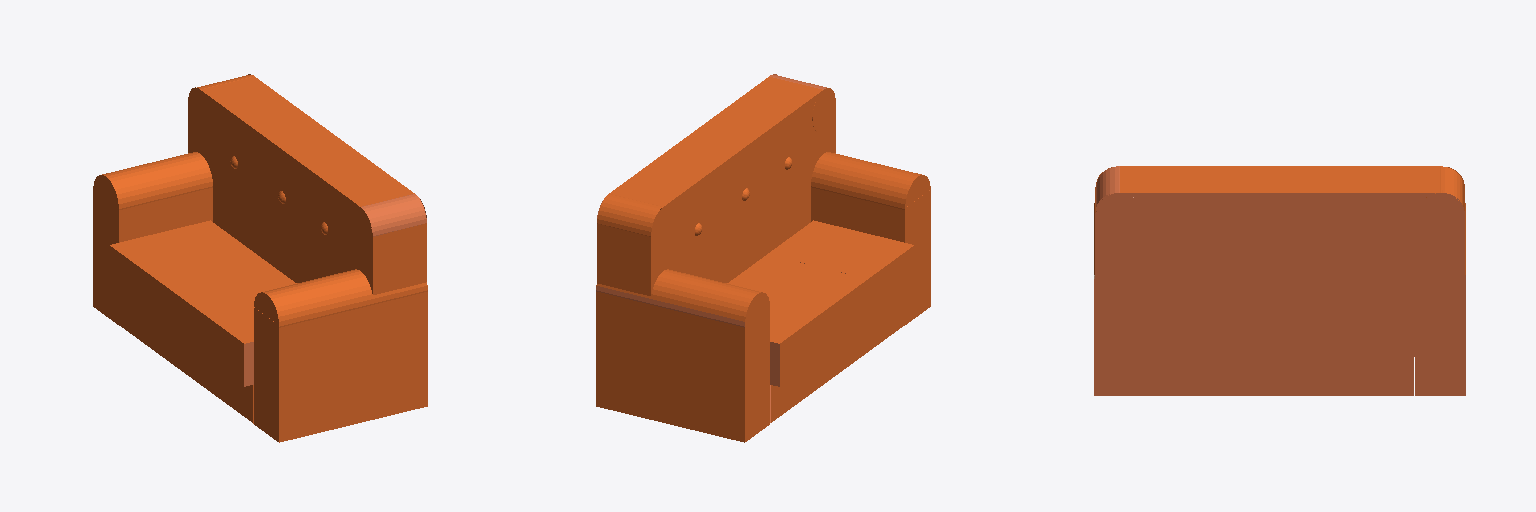
3 renders of one model, left to right at view 1: azimuth 30°, elevation 25°; view 2: azimuth 150°, elevation 25°; view 3: azimuth 270°, elevation 25°, orthographic.
Parts seen in each view (by area): view 1: Plano; view 2: Plano; view 3: Plano.
Boxes of the visible parts, <box> form: Plano: <box>93,74,427,442</box>; Plano: <box>596,74,930,442</box>; Plano: <box>1094,166,1465,395</box>.
Size of the model in its own units: 2.13 by 2.61 by 4.33.
1 materials, 1 textured.